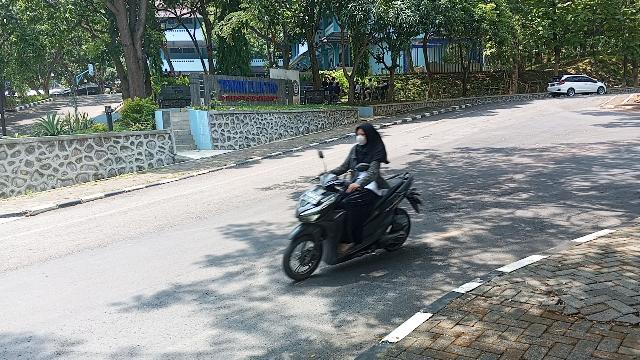motor: (281, 149, 425, 284)
non-helm: (356, 124, 379, 149)
